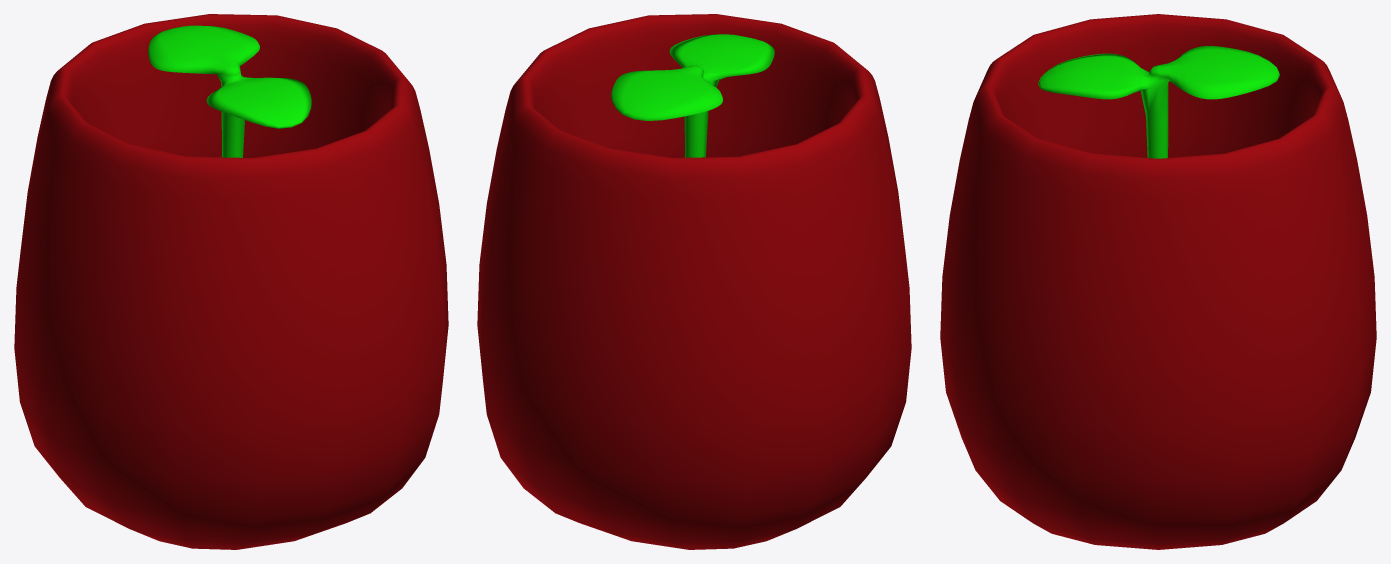
The model's file is VaseRed.glb.
3 renders of one model, left to right at view 1: azimuth 30°, elevation 25°; view 2: azimuth 150°, elevation 25°; view 3: azimuth 270°, elevation 25°, orthographic.
Parts seen in each view (by area): view 1: VaseRed; view 2: VaseRed; view 3: VaseRed.
Boxes of the visible parts, <box> form: VaseRed: <box>14,14,448,549</box>; VaseRed: <box>477,14,911,549</box>; VaseRed: <box>940,14,1376,549</box>.
Size of the model in its own units: 0.3982 by 0.4526 by 0.3982.
